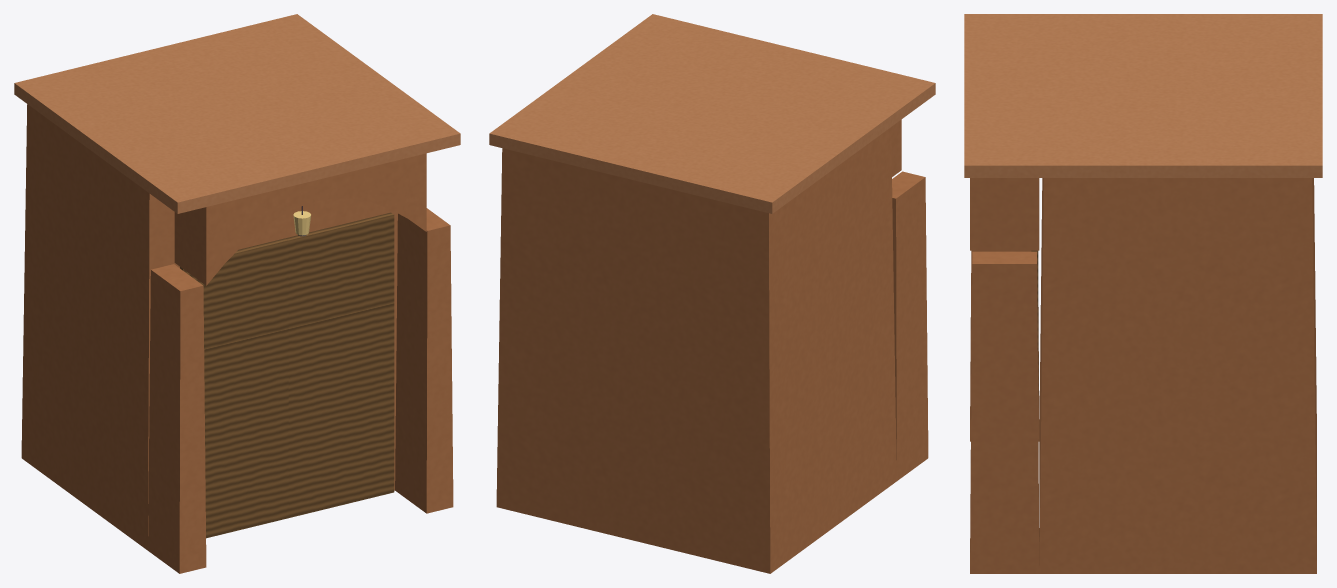
The model's file is SM_Souq_Stall_W3D30H38.fbx.
The picture shows the model from 3 angles, left to right: view 1: azimuth 30°, elevation 25°; view 2: azimuth 150°, elevation 25°; view 3: azimuth 270°, elevation 25°; orthographic projection. The views are drawn at different scales.
Parts seen in each view (by area): view 1: SM_Souq_Stall_W3D30H38; view 2: SM_Souq_Stall_W3D30H38; view 3: SM_Souq_Stall_W3D30H38.
Boxes of the visible parts, box(x1,y1,x2,y2) form: SM_Souq_Stall_W3D30H38: box(14, 14, 460, 573); SM_Souq_Stall_W3D30H38: box(489, 14, 935, 573); SM_Souq_Stall_W3D30H38: box(964, 14, 1322, 573).
Bounding box in the file's own units: 3.1 × 3.92 × 3.1.
